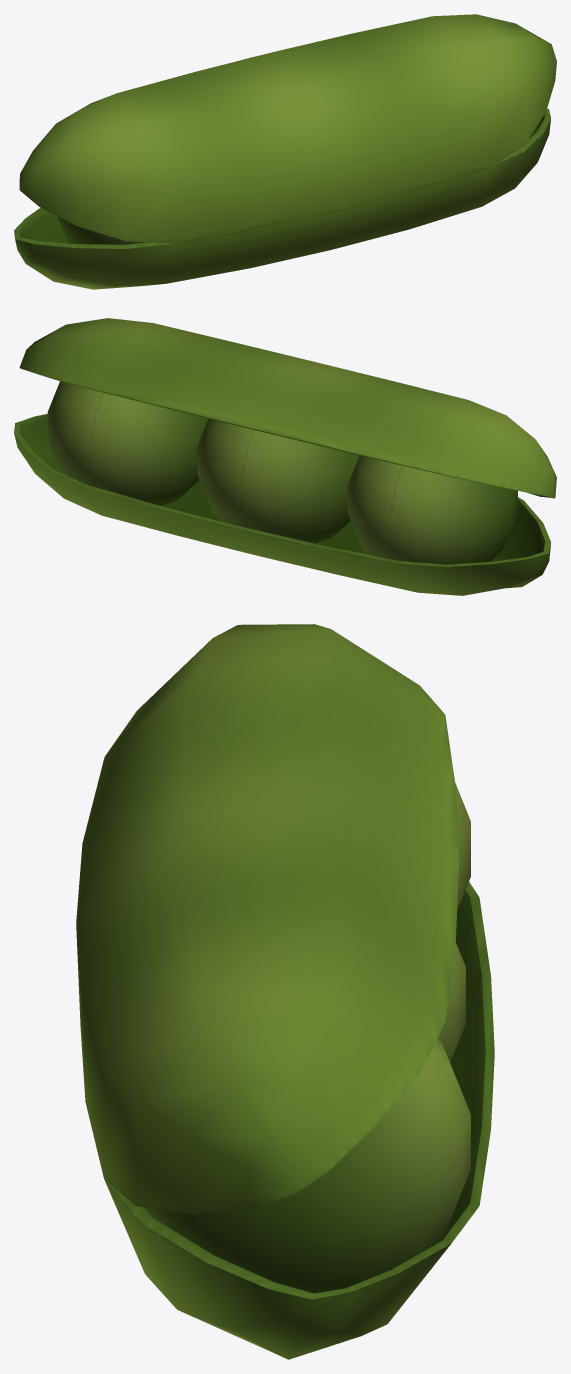
The model's file is pea.glb.
The picture shows the model from 3 angles, top to bottom: view 1: azimuth 30°, elevation 25°; view 2: azimuth 150°, elevation 25°; view 3: azimuth 270°, elevation 25°; orthographic projection. The views are drawn at different scales.
Parts seen in each view (by area): view 1: geometry_0; view 2: geometry_0; view 3: geometry_0.
Boxes of the visible parts, x1,y1,x2,y2 form: geometry_0: [14, 14, 556, 289]; geometry_0: [14, 318, 556, 595]; geometry_0: [76, 624, 494, 1359].
Size of the model in its own units: 0.4735 by 0.1523 by 0.1607.
1 material, 1 textured.
